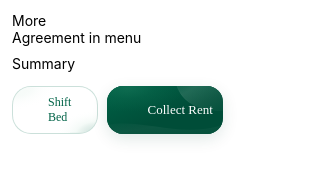
Test case: RES-004 / PAY-008: View payments opens the same payment workspace as the footer
Click the button with aria-label "View payments" at {"x": 118, "y": 64}, box [12,55,223,72]
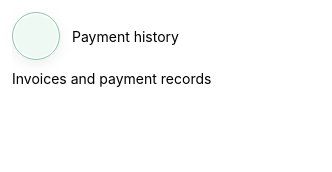
Expected: the text "Invoices and payment records" is shown, [12,70,211,87]
Click the button named "Back from payment history" at {"x": 36, "y": 36}, box [12,12,60,60]
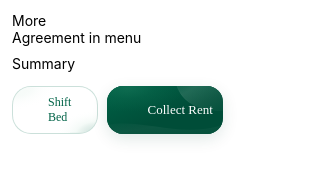
Click the button "Collect Rent" at {"x": 165, "y": 110}, box [108,86,223,134]
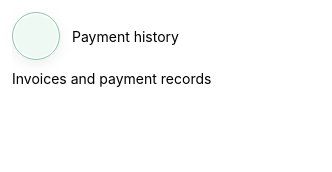
Expected: the text "Invoices and payment records" is shown, [12,70,211,87]
